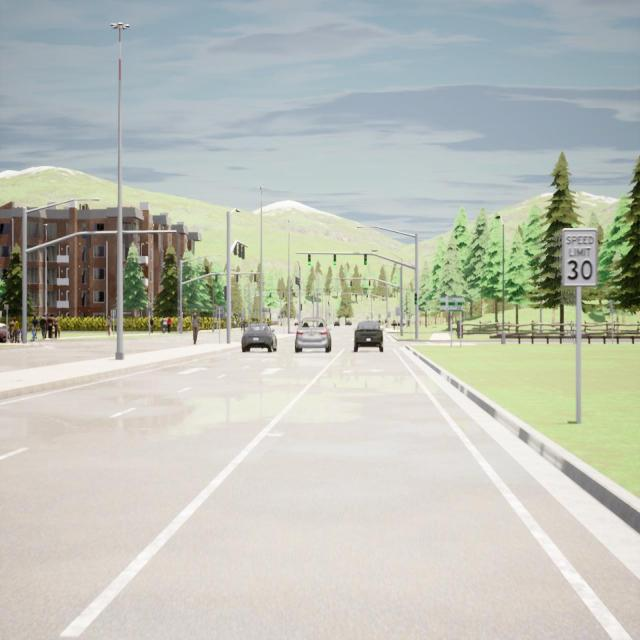Pedestrian: (192, 312, 200, 345), (13, 317, 20, 343), (40, 314, 47, 339), (54, 315, 60, 339), (32, 317, 38, 339), (48, 314, 52, 338), (107, 316, 111, 336), (10, 316, 13, 342), (168, 317, 172, 333), (32, 324, 35, 342), (150, 317, 153, 334), (163, 317, 166, 333), (393, 320, 395, 330)
Traffic_Signs: (563, 228, 597, 287), (440, 298, 463, 310), (216, 306, 223, 318)
Vehicle: (294, 318, 332, 353), (241, 324, 278, 352), (353, 321, 385, 352), (0, 328, 8, 342), (345, 320, 352, 326), (333, 321, 340, 327)
traffic_light: (238, 243, 242, 257), (242, 245, 245, 259), (308, 253, 311, 266), (364, 253, 367, 266), (415, 293, 417, 305), (234, 243, 236, 255), (334, 253, 336, 265), (350, 279, 352, 286), (369, 279, 371, 286)
